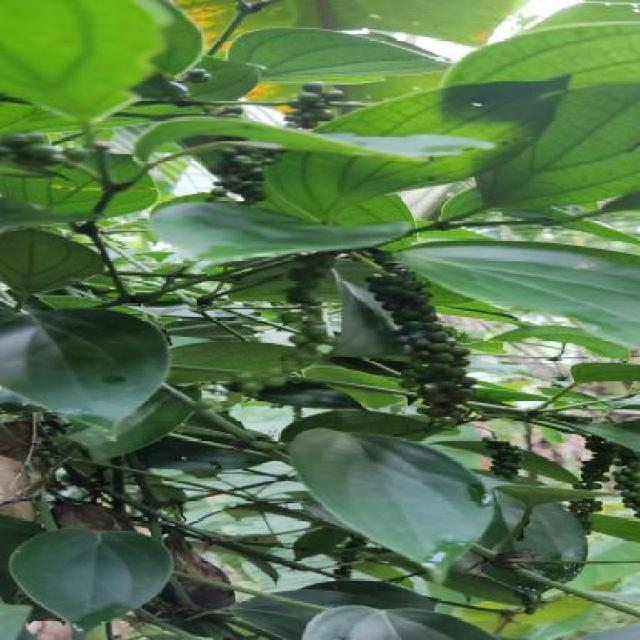UNRIPE: (360, 266, 475, 423), (233, 255, 333, 391), (574, 433, 638, 536), (208, 142, 283, 202), (0, 134, 89, 168), (285, 83, 342, 129), (483, 438, 523, 477), (180, 69, 220, 82)
